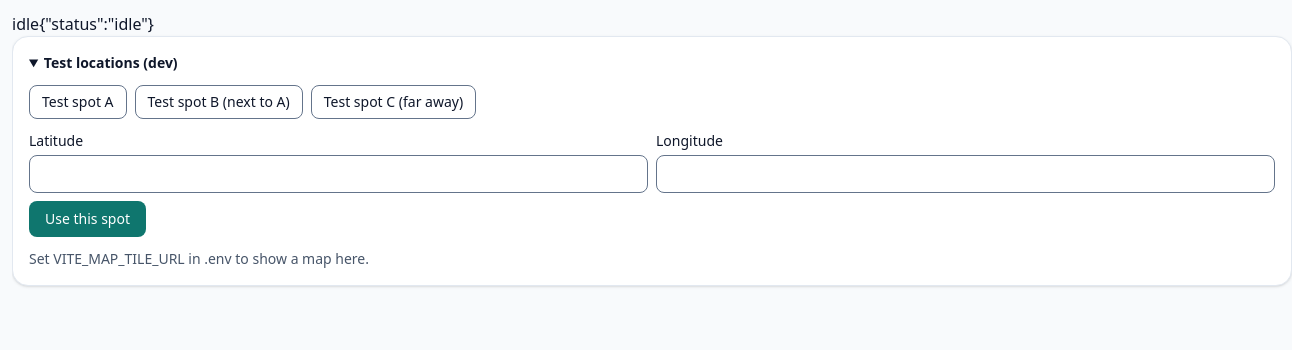
Test: DevLocationPicker › preset Test spot B (next to A) selects u4pruye
The image size is (1292, 350).
Click the button "Test spot B (next to A)".
click(219, 102)  # box x1=134 y1=85 x2=303 y2=119
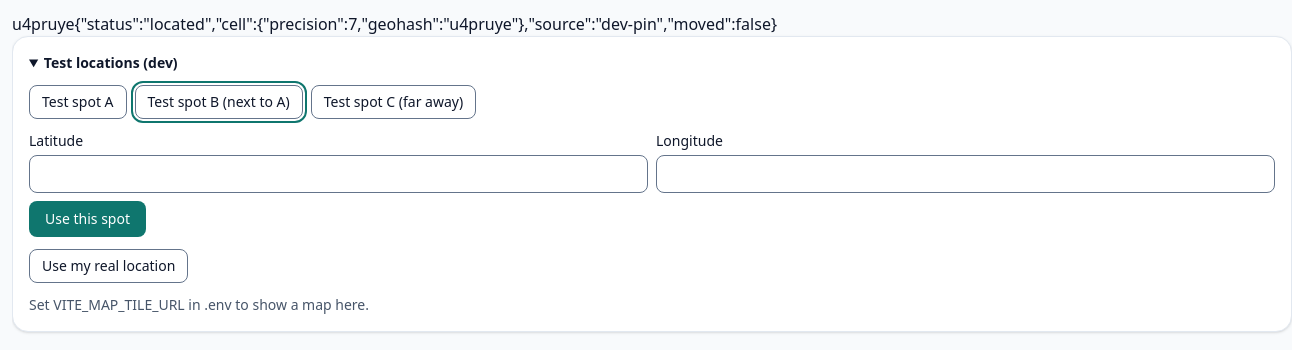
Check: the text with test id "area" reads "u4pruye", box x1=12 y1=13 x2=75 y2=35
